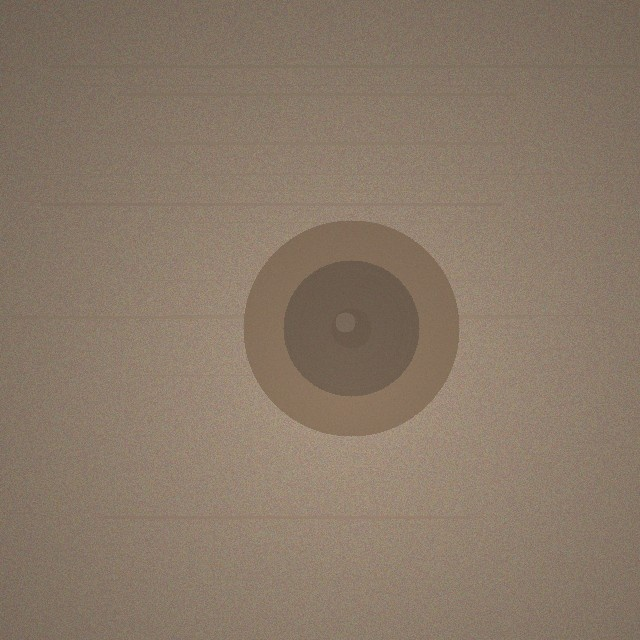good: (243, 220, 459, 436)
